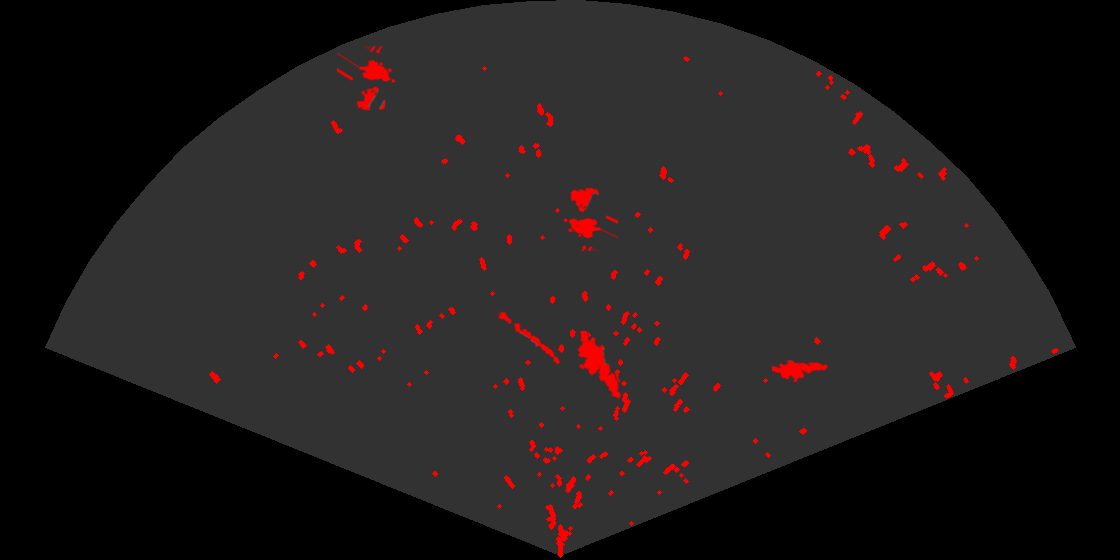cage: (337, 46, 397, 112), (562, 186, 618, 251)
chain: (493, 306, 562, 366)
frogman: (576, 331, 622, 401), (772, 358, 829, 384)
